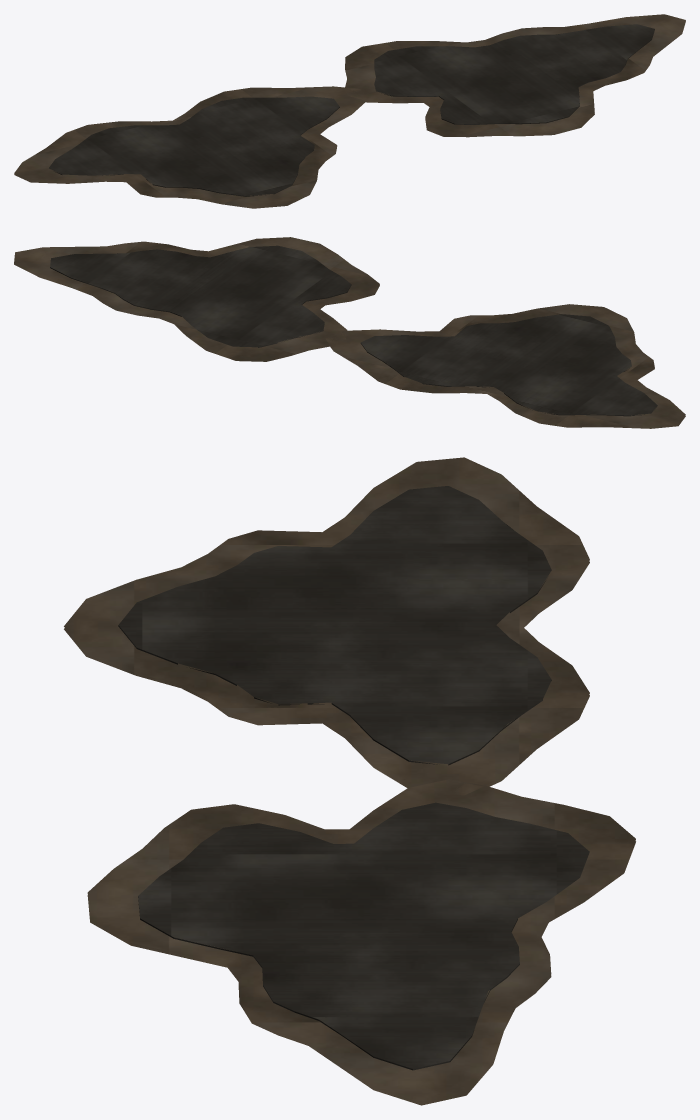
Rendered from NT25_MudPuddle.glb.
3 renders of one model, top to bottom at view 1: azimuth 30°, elevation 25°; view 2: azimuth 150°, elevation 25°; view 3: azimuth 270°, elevation 25°, orthographic. The views are drawn at different scales.
Visible parts, largest first — view 1: NT25_MudPuddle; view 2: NT25_MudPuddle; view 3: NT25_MudPuddle.
Part boxes in pixels (x1,y1,x2,y2): NT25_MudPuddle: (14, 14, 685, 208); NT25_MudPuddle: (14, 237, 685, 428); NT25_MudPuddle: (64, 457, 635, 1105).
Bounding box in the file's own units: 1.5 × 0.00454 × 0.5623.
Materials: 2 (2 with a texture image).
